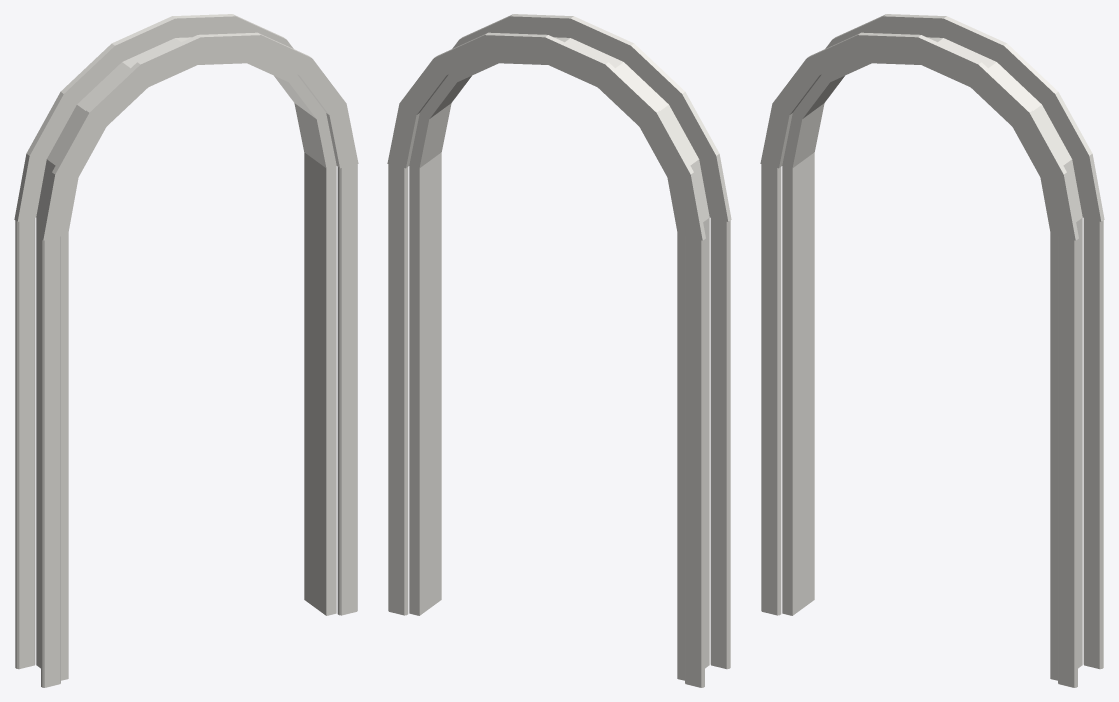
The model's file is SM_LPI_Open_Arch_01.fbx.
3 renders of one model, left to right at view 1: azimuth 30°, elevation 25°; view 2: azimuth 150°, elevation 25°; view 3: azimuth 330°, elevation 25°, orthographic.
Visible parts, largest first — view 1: SM_LPI_Open_Arch_01; view 2: SM_LPI_Open_Arch_01; view 3: SM_LPI_Open_Arch_01.
Part boxes in pixels (x1=…): SM_LPI_Open_Arch_01: x1=14, y1=14, x2=358, y2=687; SM_LPI_Open_Arch_01: x1=387, y1=14, x2=731, y2=687; SM_LPI_Open_Arch_01: x1=760, y1=14, x2=1104, y2=687.
Size of the model in its own units: 1.22 by 2.27 by 0.194.
